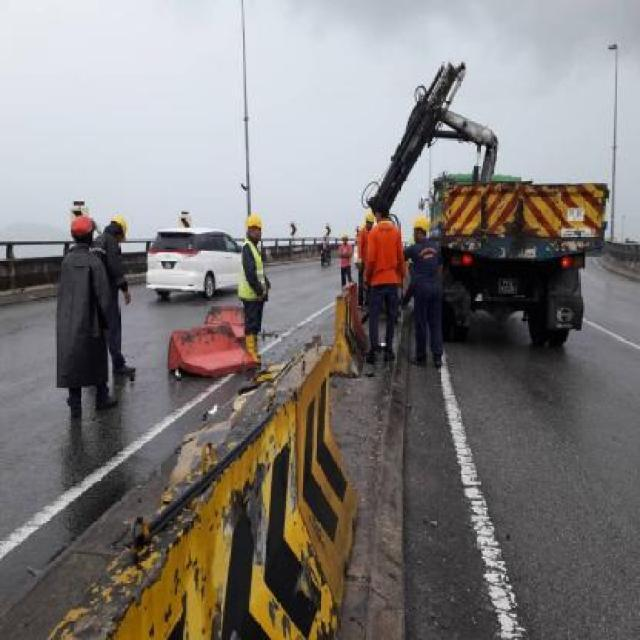fallen_object: (0, 352, 360, 640), (169, 305, 253, 383), (322, 283, 382, 392)
